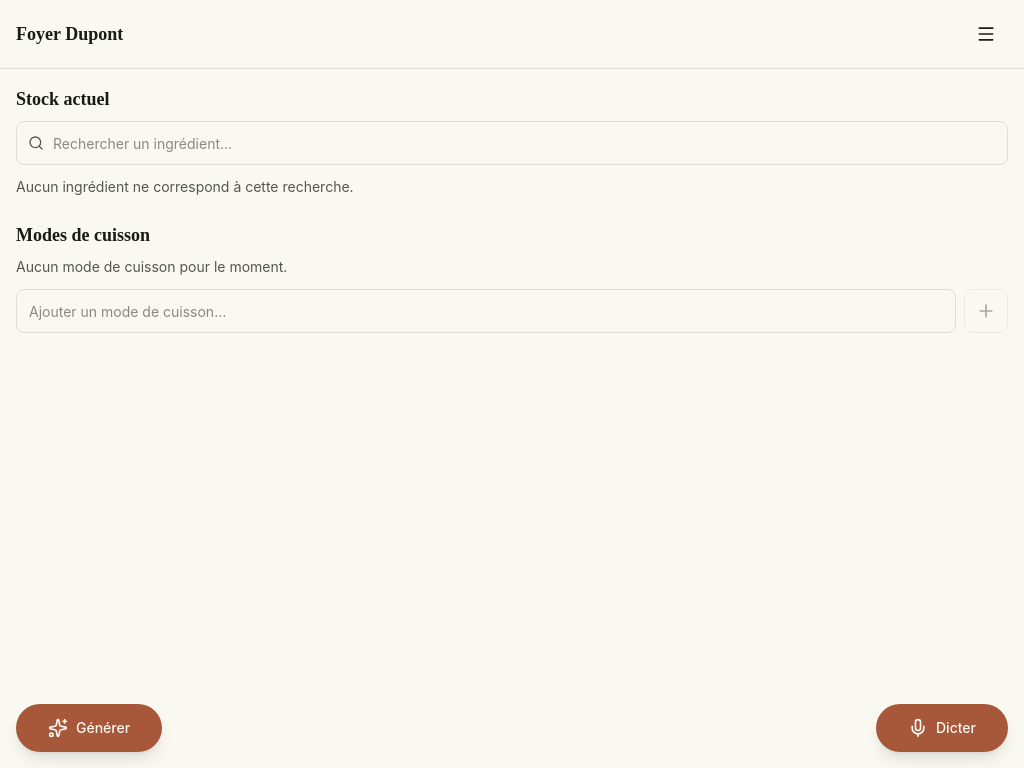
Test case: AppHomePage › ouvre le drawer via le bouton menu et le referme avec Escape
Expected: the heading "Foyer Dupont" is shown, [16,20,123,48]
Click the button named "ouvrir le menu" at (986, 34), box [964,12,1008,56]
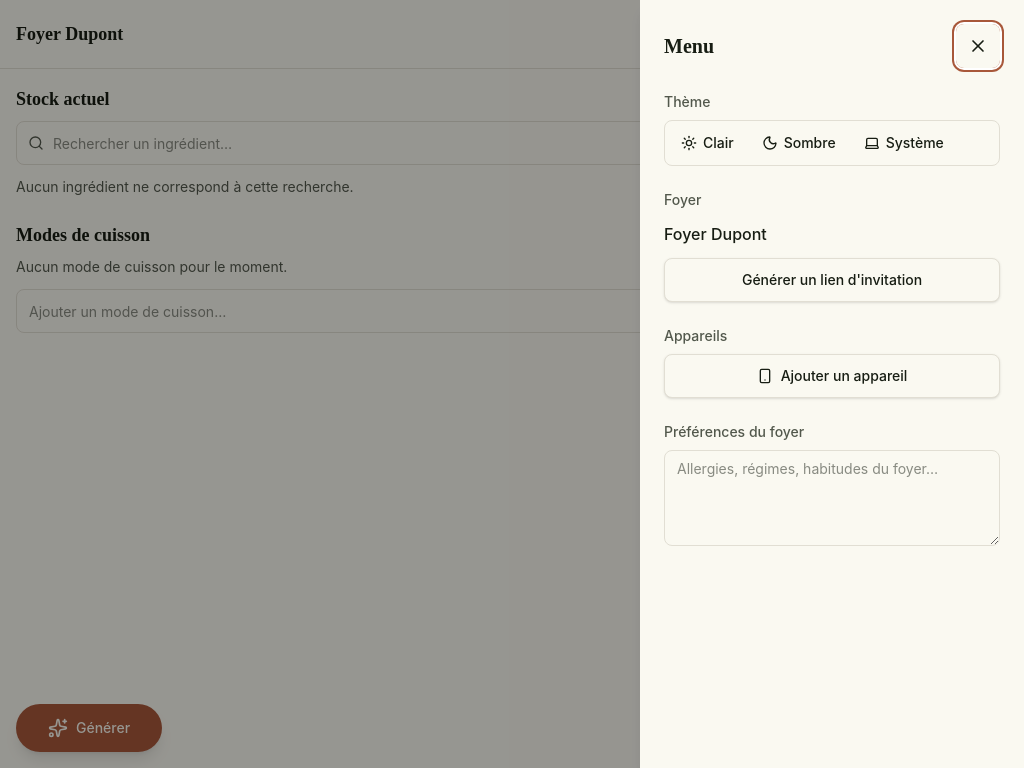
Now the dialog "Menu" is shown, box [640,0,1023,767]
Press Escape
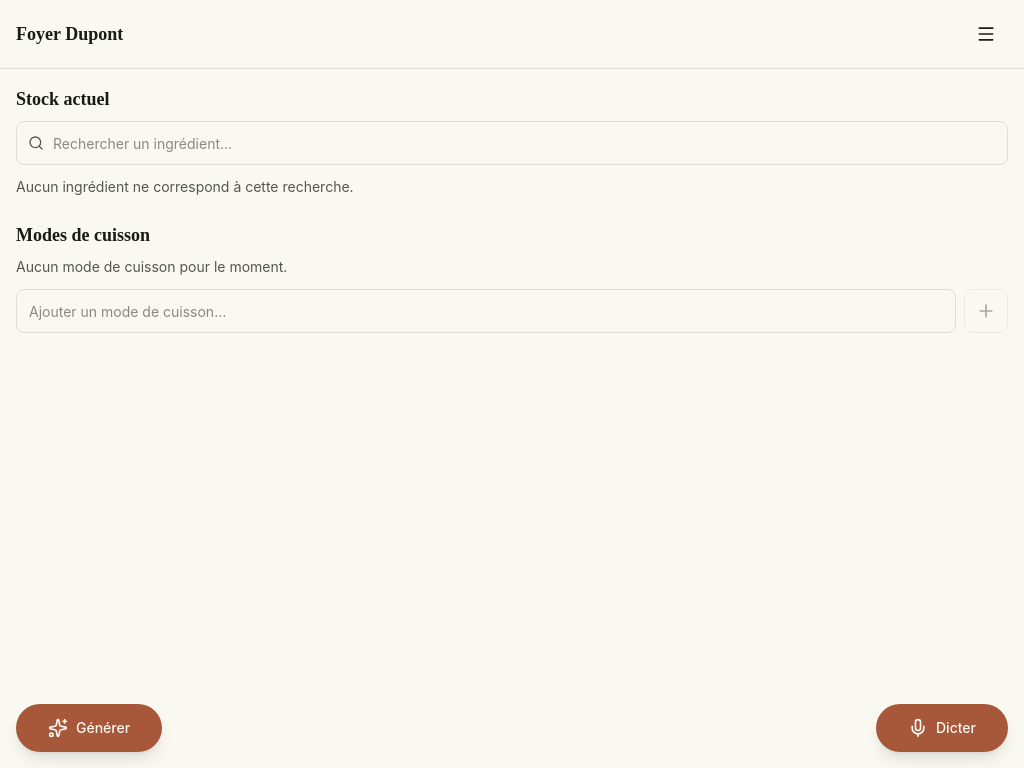
Now the heading "Menu" is gone
